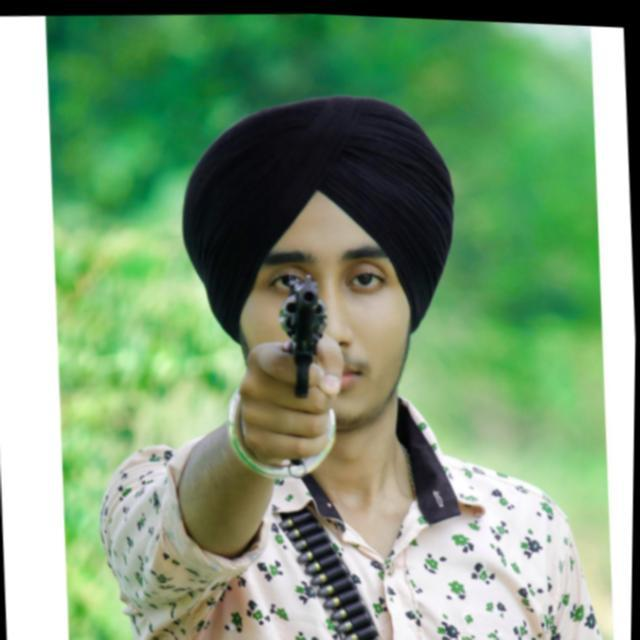weapon: (265, 264, 346, 470)
